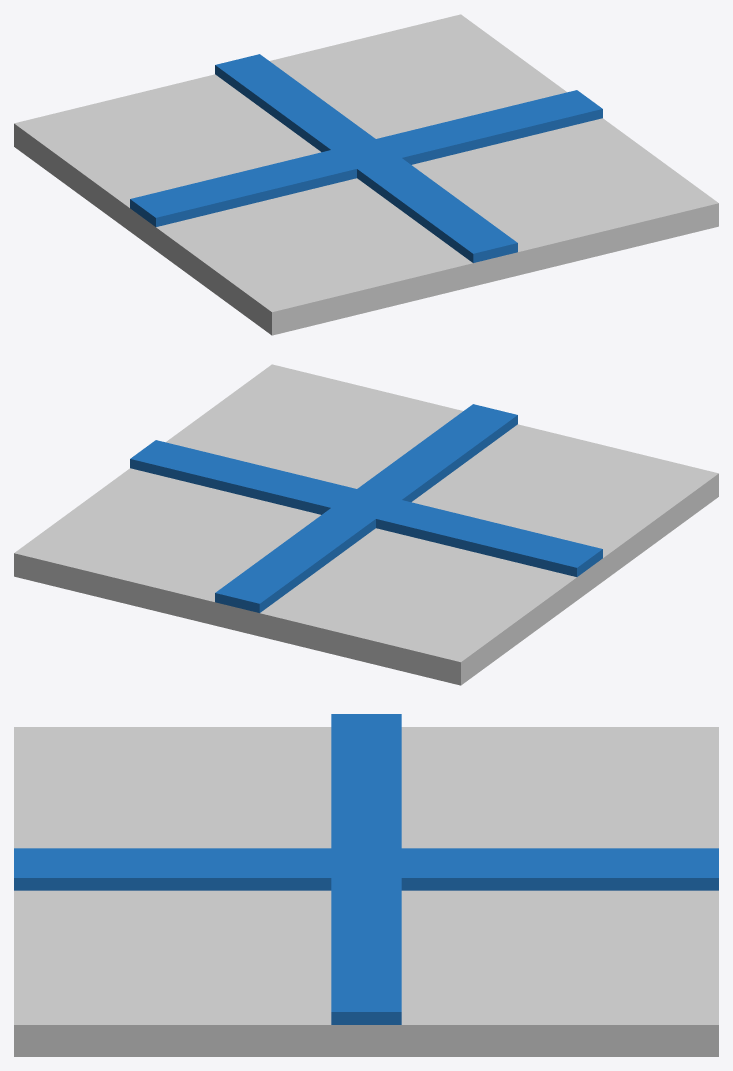
File: 3DTile3.fbx
3 renders of one model, top to bottom at view 1: azimuth 30°, elevation 25°; view 2: azimuth 150°, elevation 25°; view 3: azimuth 270°, elevation 25°, orthographic. The views are drawn at different scales.
Parts seen in each view (by area): view 1: Plane.002; view 2: Plane.002; view 3: Plane.002.
Boxes of the visible parts, <box> form: Plane.002: <box>14,14,718,335</box>; Plane.002: <box>14,364,718,685</box>; Plane.002: <box>14,714,718,1056</box>.
Size of the model in its own units: 20000 by 1400 by 20000.
